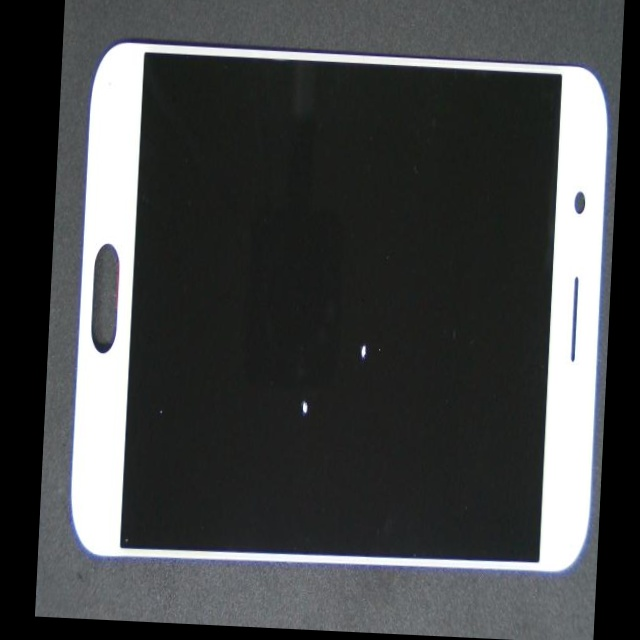stain: (190, 72, 518, 508), (179, 190, 450, 607)
